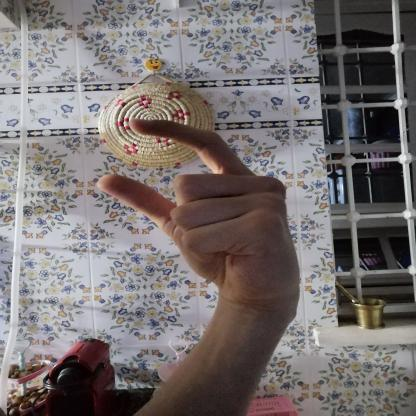DELL: (86, 110, 308, 314)
